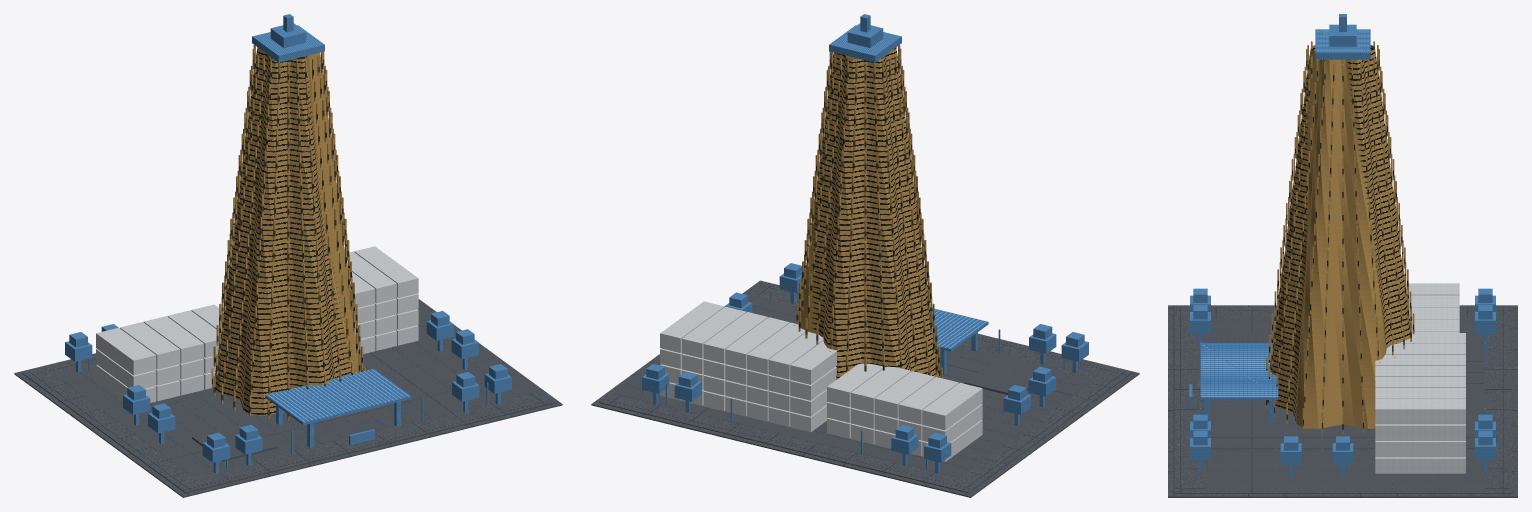
3 views of the same model, side by side, from view 1: azimuth 30°, elevation 25°; view 2: azimuth 150°, elevation 25°; view 3: azimuth 270°, elevation 25° (orthographic). The views are drawn at different scales.
Parts seen in each view (by area): view 1: 28185_01_21998_002_02__curtain_wall_tower, 28185_01_21998_002_01__plaza_ground_base, 28185_01_21998_002_03__podium_hotel_arcade, 28185_01_21998_002_04__canopy_spire_amenities; view 2: 28185_01_21998_002_02__curtain_wall_tower, 28185_01_21998_002_03__podium_hotel_arcade, 28185_01_21998_002_01__plaza_ground_base, 28185_01_21998_002_04__canopy_spire_amenities; view 3: 28185_01_21998_002_02__curtain_wall_tower, 28185_01_21998_002_01__plaza_ground_base, 28185_01_21998_002_03__podium_hotel_arcade, 28185_01_21998_002_04__canopy_spire_amenities.
Part boxes in pixels (box(x1,y1,x2,y2)): 28185_01_21998_002_02__curtain_wall_tower: box(211, 45, 365, 420); 28185_01_21998_002_01__plaza_ground_base: box(14, 299, 562, 497); 28185_01_21998_002_03__podium_hotel_arcade: box(96, 246, 418, 402); 28185_01_21998_002_04__canopy_spire_amenities: box(65, 14, 511, 473); 28185_01_21998_002_02__curtain_wall_tower: box(794, 45, 942, 379); 28185_01_21998_002_03__podium_hotel_arcade: box(660, 301, 982, 461); 28185_01_21998_002_01__plaza_ground_base: box(591, 280, 1139, 497); 28185_01_21998_002_04__canopy_spire_amenities: box(642, 14, 1088, 473); 28185_01_21998_002_02__curtain_wall_tower: box(1266, 41, 1414, 433); 28185_01_21998_002_01__plaza_ground_base: box(1168, 305, 1517, 497); 28185_01_21998_002_03__podium_hotel_arcade: box(1375, 283, 1465, 473); 28185_01_21998_002_04__canopy_spire_amenities: box(1189, 14, 1495, 477).
Bounding box in the file's own units: 70 × 65.85 × 54.
Materials: 4 (4 with a texture image).
